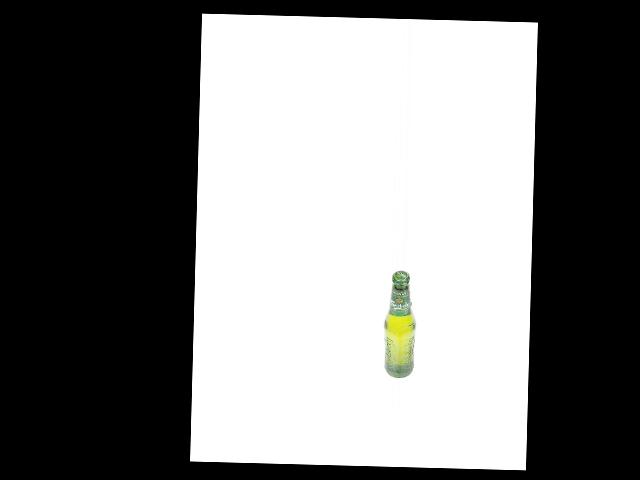beer: (383, 270, 417, 378)
